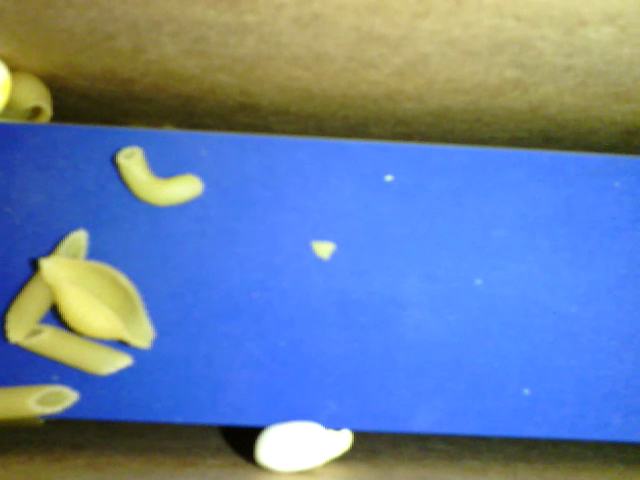elbow: (114, 139, 208, 207)
penne: (4, 226, 88, 343), (15, 318, 139, 374), (1, 381, 81, 413)
shell: (39, 253, 159, 348), (1, 70, 56, 127)
